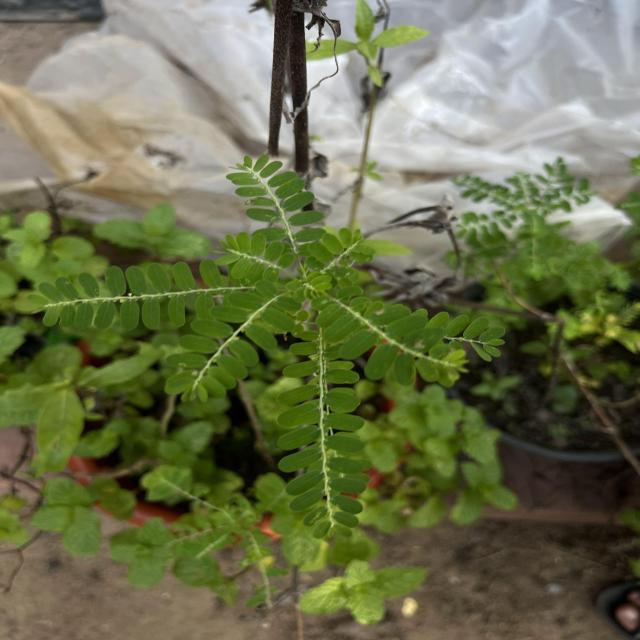Phyllanthus niruri: (272, 309, 376, 543), (159, 276, 305, 406), (27, 254, 236, 334), (314, 284, 472, 386), (226, 152, 328, 270), (212, 228, 300, 285), (304, 223, 374, 284)
